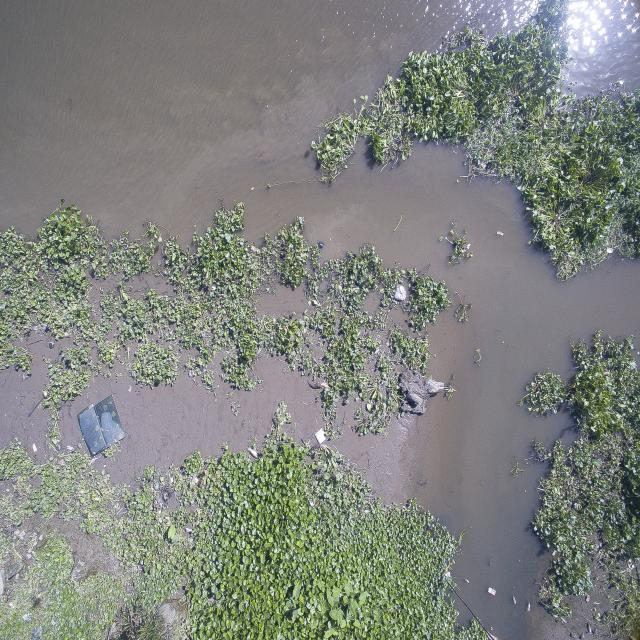debris: (75, 396, 124, 451), (313, 426, 328, 448), (394, 284, 406, 304), (247, 444, 259, 460), (248, 244, 264, 256), (487, 584, 498, 598), (495, 227, 506, 239), (64, 355, 72, 370), (604, 245, 614, 257), (31, 444, 39, 454), (443, 570, 452, 578)
plastic: (586, 620, 594, 634), (526, 599, 532, 613), (317, 240, 325, 248), (463, 578, 471, 584), (512, 593, 516, 605)
